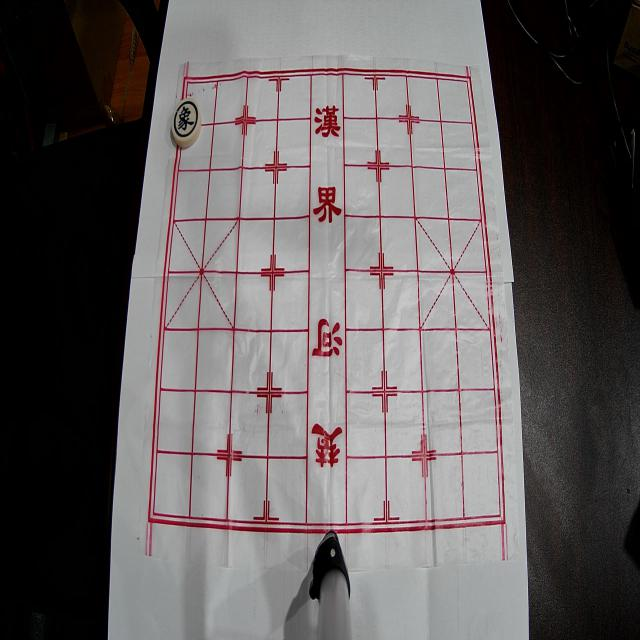black-elephant: (171, 98, 201, 148)
